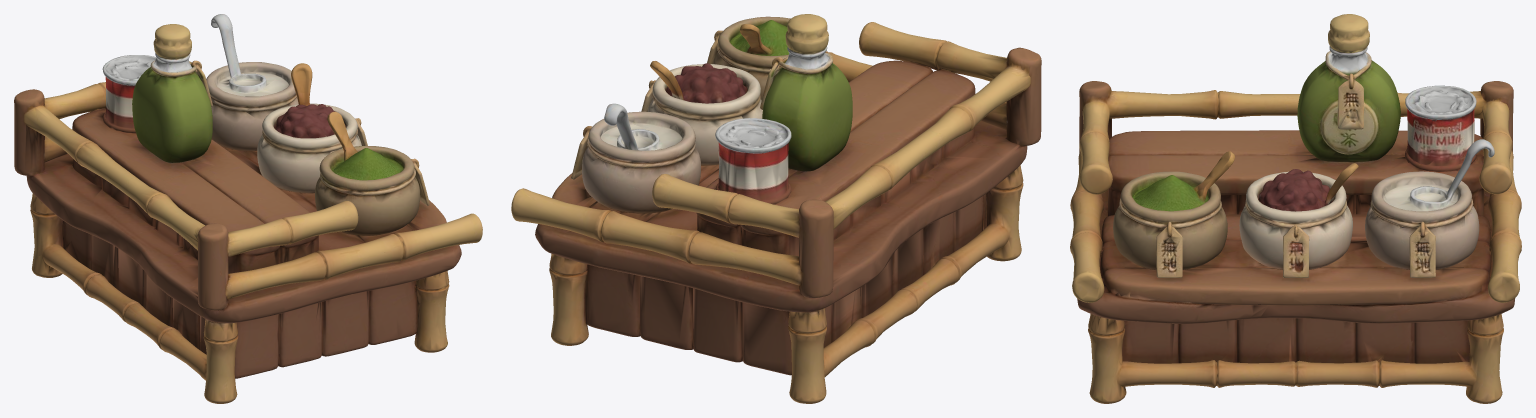
File: JP_사물_s2_station_topping_t1_old.glb
3 views of the same model, side by side, from view 1: azimuth 30°, elevation 25°; view 2: azimuth 150°, elevation 25°; view 3: azimuth 270°, elevation 25° (orthographic). The views are drawn at different scales.
Parts seen in each view (by area): view 1: tripo_node_c2ace075-770c-4c81-a394-4e120689e46e; view 2: tripo_node_c2ace075-770c-4c81-a394-4e120689e46e; view 3: tripo_node_c2ace075-770c-4c81-a394-4e120689e46e.
Part boxes in pixels (bbox=[...]): tripo_node_c2ace075-770c-4c81-a394-4e120689e46e: bbox=[14, 14, 482, 403]; tripo_node_c2ace075-770c-4c81-a394-4e120689e46e: bbox=[511, 14, 1041, 403]; tripo_node_c2ace075-770c-4c81-a394-4e120689e46e: bbox=[1070, 14, 1521, 403].
Bounding box in the file's own units: 0.7656 × 0.7327 × 0.9998.
Materials: 1 (1 with a texture image).
